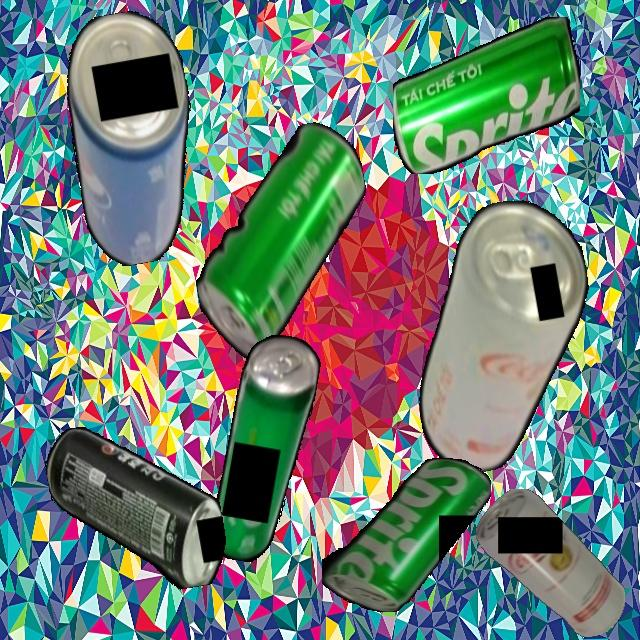debris: (387, 190, 617, 481), (173, 116, 391, 366), (52, 4, 216, 271), (40, 406, 233, 608), (392, 16, 580, 174), (205, 329, 324, 568), (321, 457, 491, 612), (475, 489, 625, 637)
